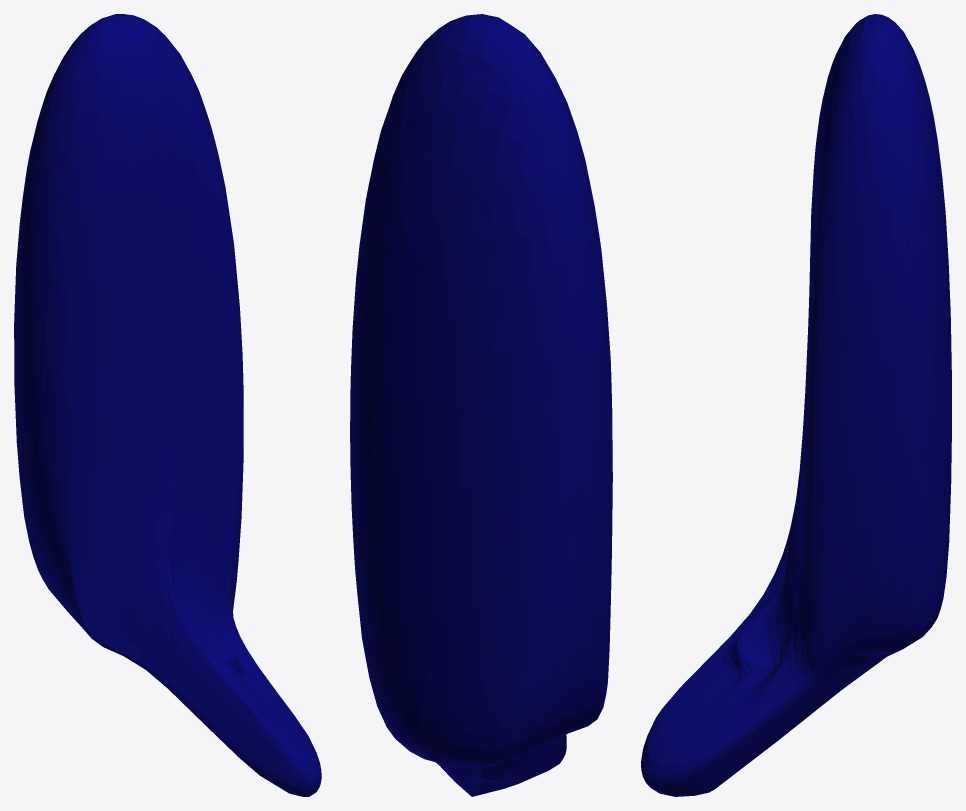
The picture shows the model from 3 angles, left to right: view 1: azimuth 30°, elevation 25°; view 2: azimuth 150°, elevation 25°; view 3: azimuth 270°, elevation 25°; orthographic projection. The views are drawn at different scales.
Visible parts, largest first — view 1: 573_Cube.2309; view 2: 573_Cube.2309; view 3: 573_Cube.2309.
Boxes of the visible parts, <box> form: 573_Cube.2309: <box>14,14,321,796</box>; 573_Cube.2309: <box>350,14,612,796</box>; 573_Cube.2309: <box>641,14,951,796</box>.
Size of the model in its own units: 3.83 by 13.22 by 5.08.
